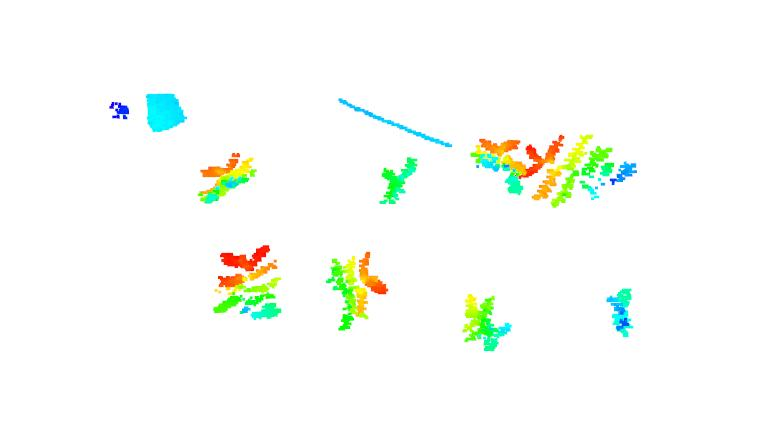chickpea: (527, 133, 644, 204), (214, 238, 280, 323), (326, 250, 390, 331), (457, 291, 515, 357), (197, 148, 259, 206), (471, 131, 527, 193), (375, 157, 421, 205), (606, 284, 638, 337)
